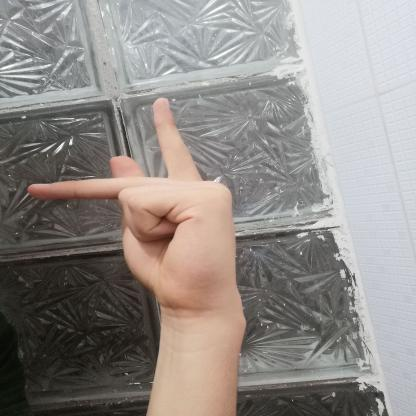DHAA: (12, 86, 251, 314)
